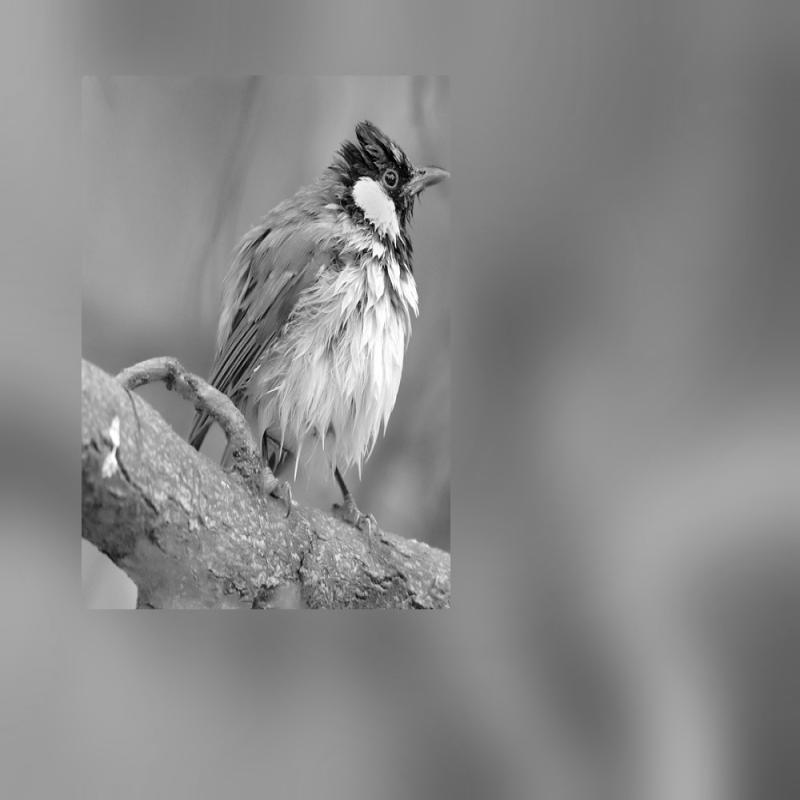white-eared bulbul: (169, 100, 451, 518)
